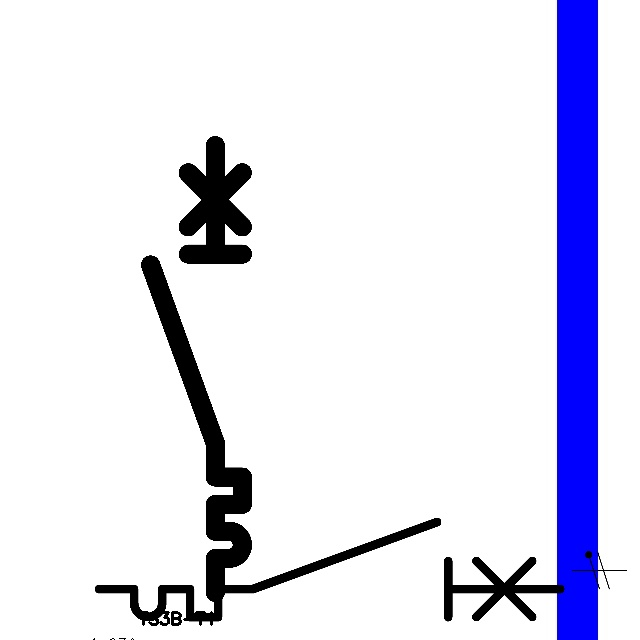interruptor_termomagnetico: (87, 510, 572, 629), (139, 134, 254, 604)
